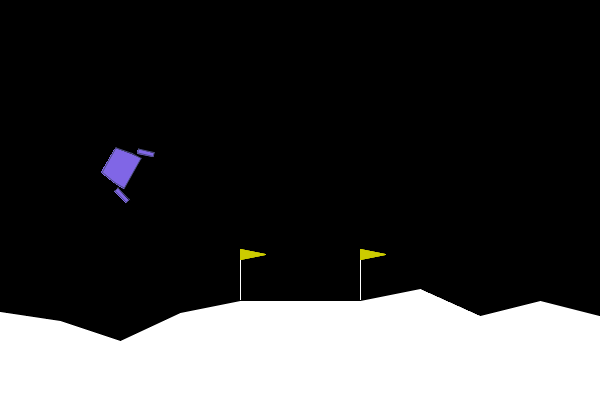lander: (92, 133, 156, 205)
